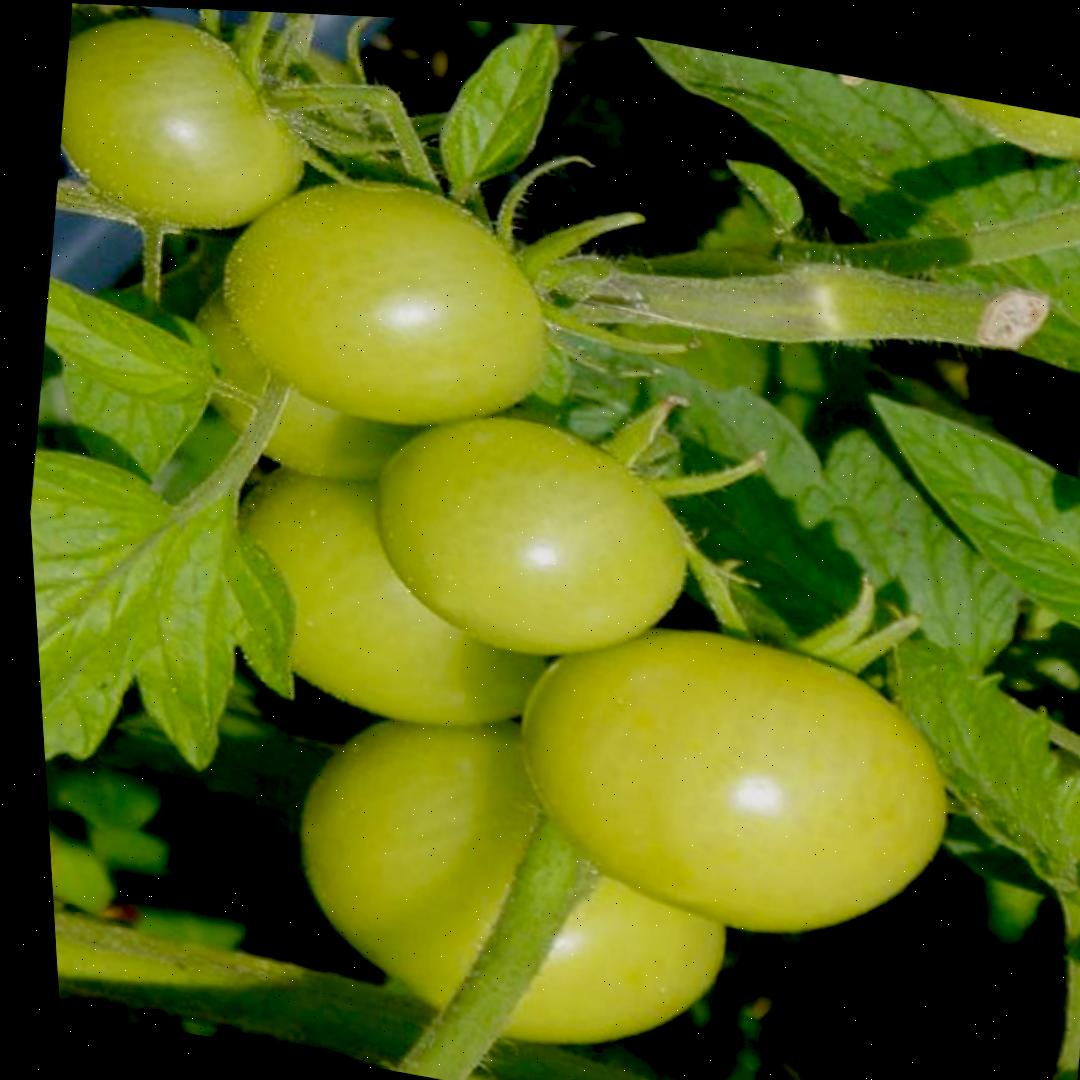mentah: (490, 593, 980, 971), (199, 148, 580, 457), (350, 391, 715, 686), (41, 2, 330, 252)
